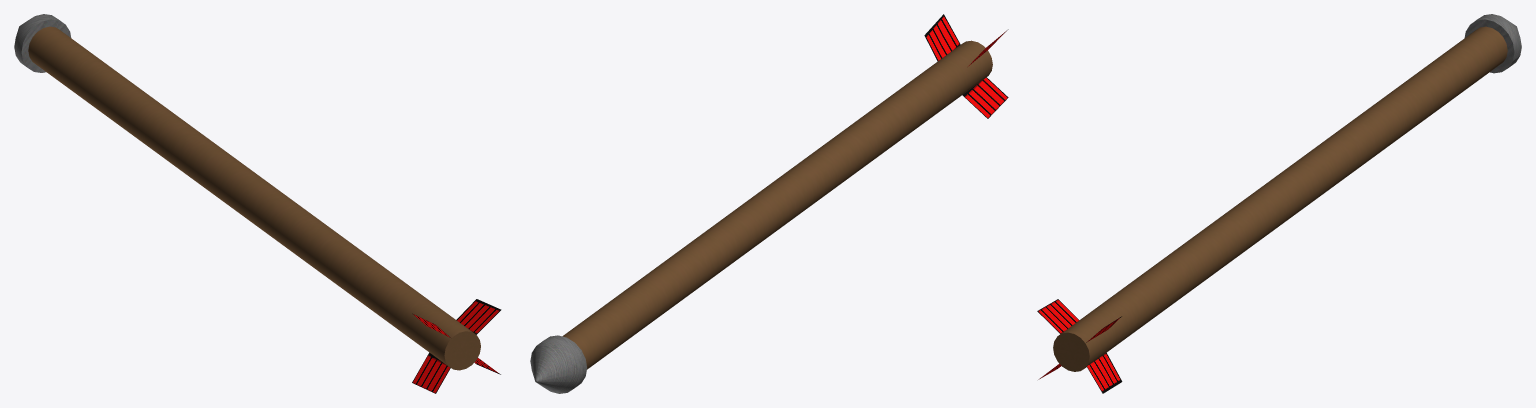
Rendered from arrow.obj.
3 renders of one model, left to right at view 1: azimuth 30°, elevation 25°; view 2: azimuth 150°, elevation 25°; view 3: azimuth 330°, elevation 25°, orthographic.
Parts seen in each view (by area): view 1: Arrow_Arrow_0; view 2: Arrow_Arrow_0; view 3: Arrow_Arrow_0.
Part boxes in pixels (x1,y1,x2,y2): Arrow_Arrow_0: (14,14,501,393); Arrow_Arrow_0: (530,14,1008,393); Arrow_Arrow_0: (1037,14,1521,393).
Bounding box in the file's own units: 0.0459 × 0.0483 × 0.5279.
Materials: 1 (1 with a texture image).
